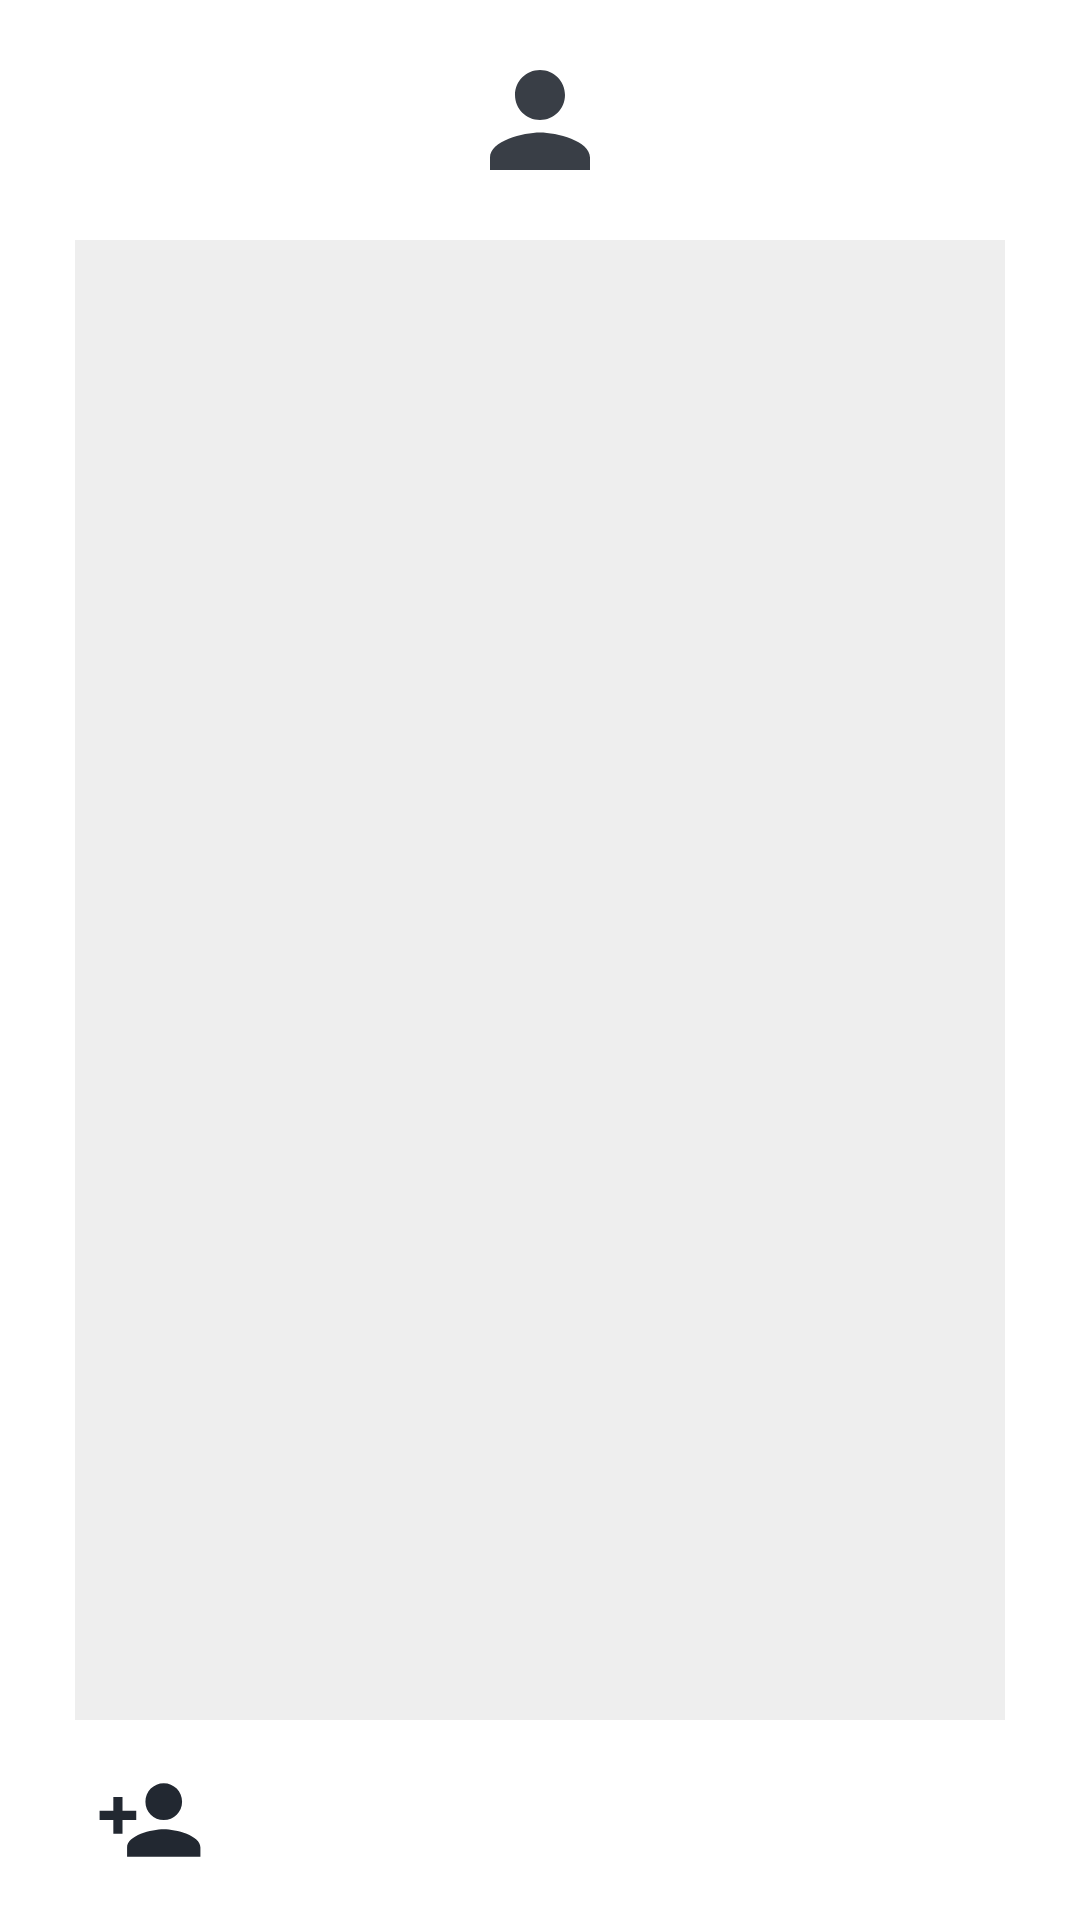

Icons on this 1080w x 1920h Android screen, each with the point to tap as point (x, y):
addcontact: point (150, 1820)
